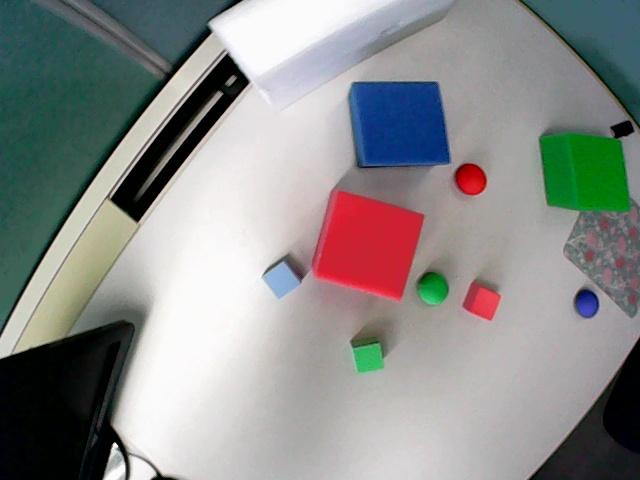blue_block: (349, 82, 450, 167), (262, 259, 300, 297)
red_block: (312, 190, 423, 300), (463, 282, 500, 320)
